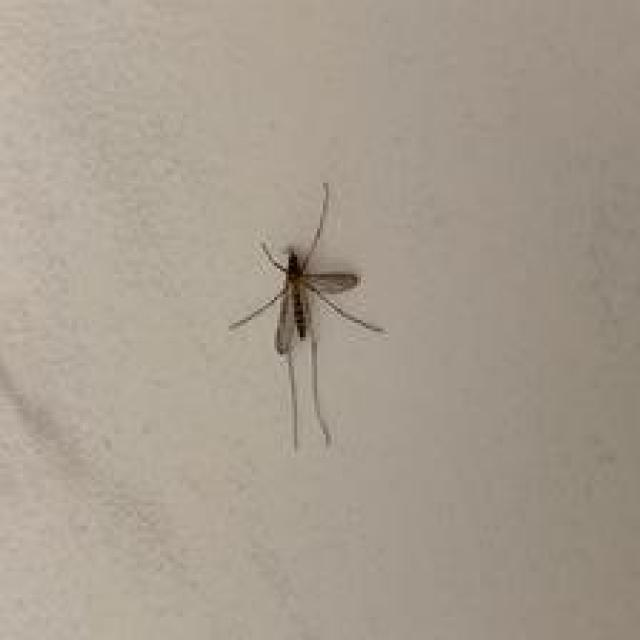Culex: (227, 180, 387, 451)
